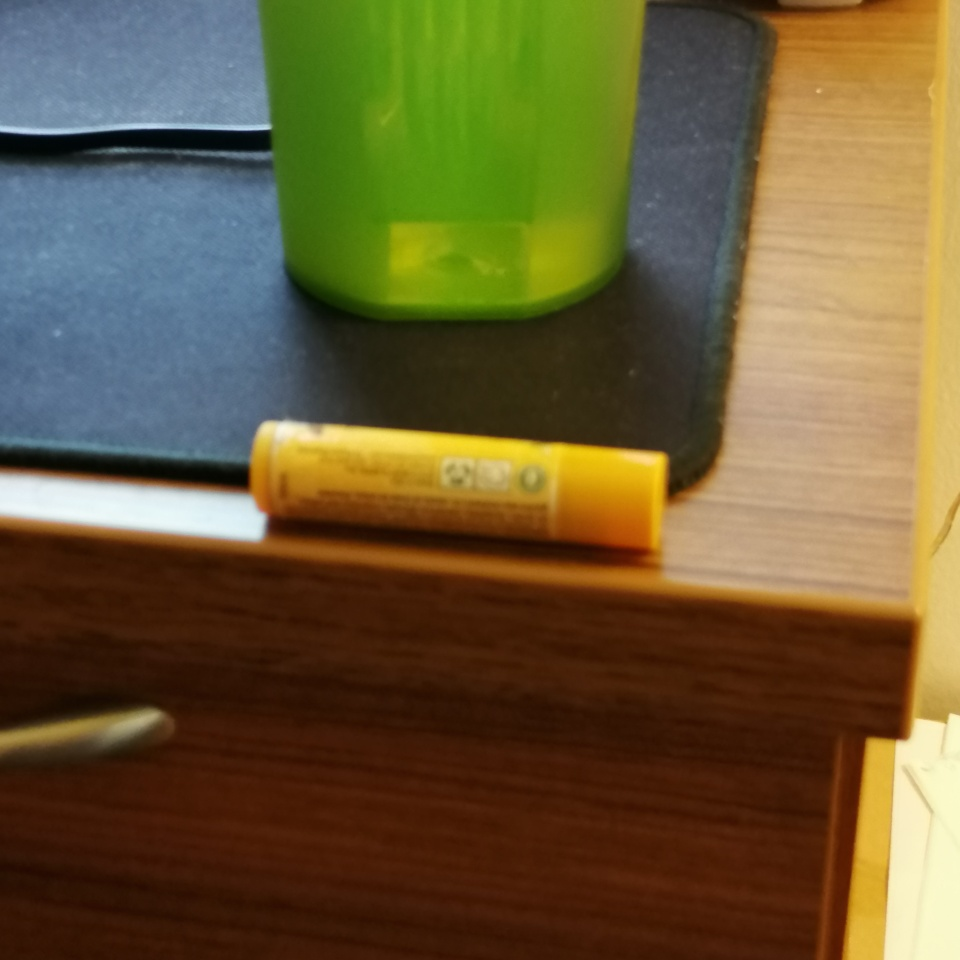chapstick: (250, 419, 669, 552)
